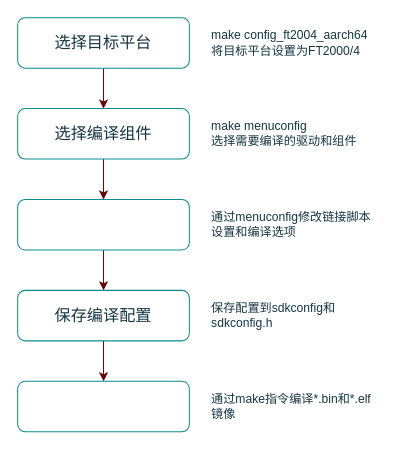
This 399x449 diagram has some shape labels left out. Here are the shapes that lost their labels. From the top down, the centre of each, then its label:
At point 103,224: "设置编译选项".
At point 103,406: "完成编译构建".
